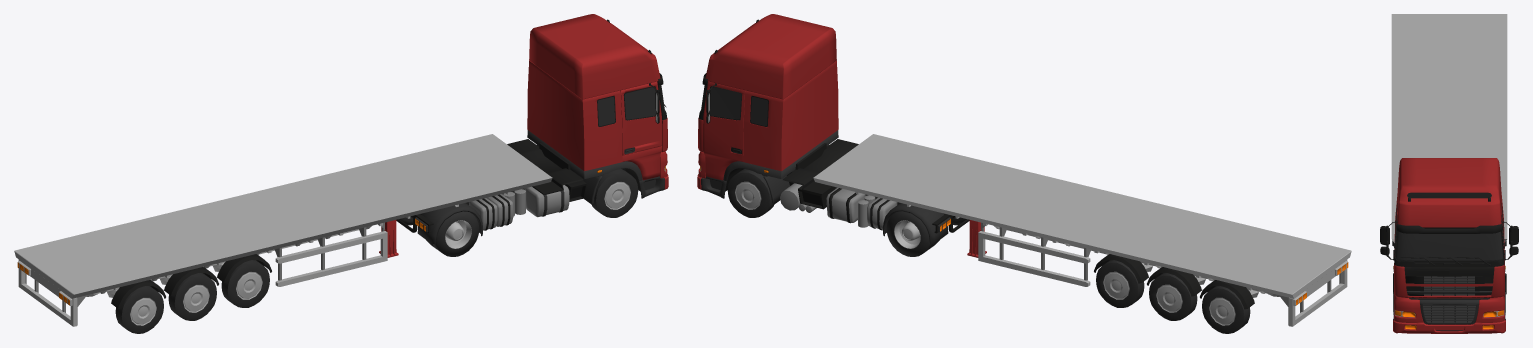
File: sm_Truck_without_cargobox.fbx
The picture shows the model from 3 angles, left to right: view 1: azimuth 30°, elevation 25°; view 2: azimuth 150°, elevation 25°; view 3: azimuth 270°, elevation 25°; orthographic projection. The views are drawn at different scales.
Visible parts, largest first — view 1: sm_Truck_without_cargobox; view 2: sm_Truck_without_cargobox; view 3: sm_Truck_without_cargobox.
Boxes of the visible parts, x1=… form: sm_Truck_without_cargobox: x1=14, y1=14, x2=668, y2=333; sm_Truck_without_cargobox: x1=697, y1=14, x2=1351, y2=333; sm_Truck_without_cargobox: x1=1380, y1=14, x2=1518, y2=333.
Bounding box in the file's own units: 15.27 × 3.86 × 3.17.
